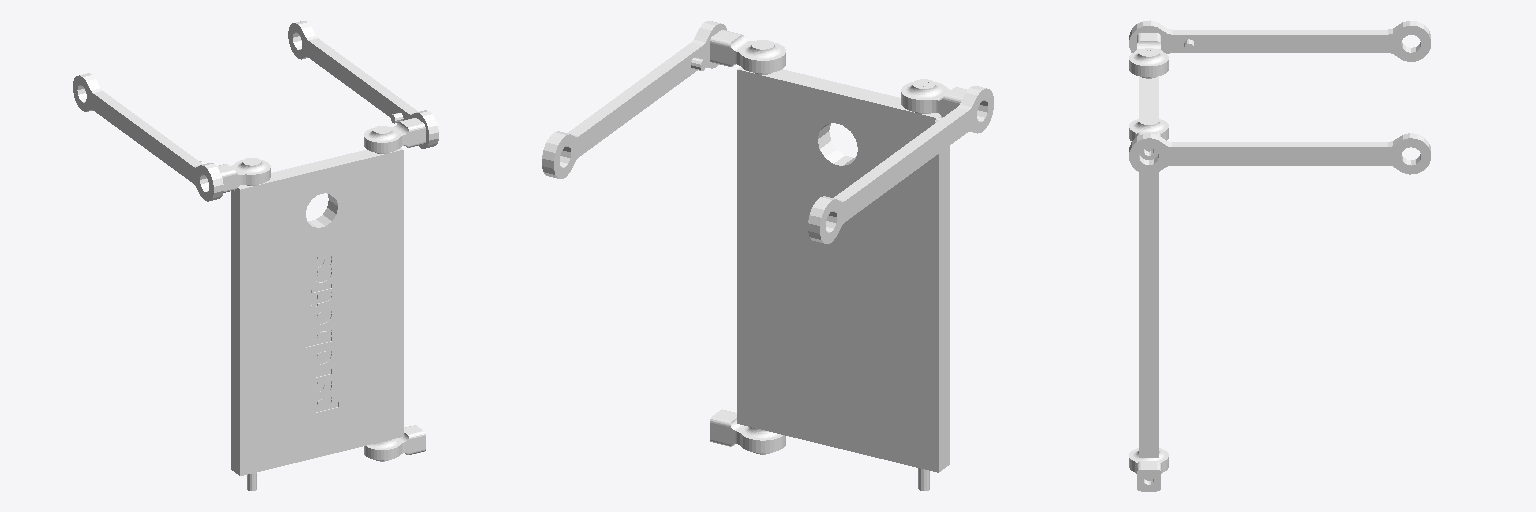
The robot description file, URDF, robot "dog_n3":
<?xml version="1.0" encoding="utf-8"?>
<!-- This URDF was automatically created by SolidWorks to URDF Exporter! Originally created by [author] ([email redacted]) 
     Commit Version: 1.5.1-0-g916b5db  Build Version: 1.5.7152.31018
     For more information, please see http://wiki.ros.org/sw_urdf_exporter -->
<robot
  name="dog_n3">
  <link
    name="base_link">
    <inertial>
      <origin
        xyz="0.0269612245896702 0.0654804967131808 0.169360689801144"
        rpy="0 0 0" />
      <mass
        value="0.165512786528228" />
      <inertia
        ixx="0.000392295659781242"
        ixy="-4.09650301571167E-09"
        ixz="4.6826411383129E-10"
        iyy="0.000142795553508747"
        iyz="-1.67266918288114E-08"
        izz="0.00053235366320355" />
    </inertial>
    <visual>
      <origin
        xyz="0 0 0"
        rpy="0 0 0" />
      <geometry>
        <mesh
          filename="package://dog_n3/meshes/base_link.STL" />
      </geometry>
      <material
        name="">
        <color
          rgba="1 1 1 1" />
      </material>
    </visual>
    <collision>
      <origin
        xyz="0 0 0"
        rpy="0 0 0" />
      <geometry>
        <mesh
          filename="package://dog_n3/meshes/base_link.STL" />
      </geometry>
    </collision>
  </link>
  <link
    name="lab_FL">
    <inertial>
      <origin
        xyz="-0.00691499568551896 2.77555756156289E-17 -0.00599999989355071"
        rpy="0 0 0" />
      <mass
        value="0.00388288484712263" />
      <inertia
        ixx="1.04650940823322E-07"
        ixy="1.00102804353274E-21"
        ixz="3.28972437896473E-15"
        iyy="3.64557783410698E-07"
        iyz="-2.60206831303284E-13"
        izz="4.05017083306772E-07" />
    </inertial>
    <visual>
      <origin
        xyz="0 0 0"
        rpy="0 0 0" />
      <geometry>
        <mesh
          filename="package://dog_n3/meshes/lab_FL.STL" />
      </geometry>
      <material
        name="">
        <color
          rgba="1 1 1 1" />
      </material>
    </visual>
    <collision>
      <origin
        xyz="0 0 0"
        rpy="0 0 0" />
      <geometry>
        <mesh
          filename="package://dog_n3/meshes/lab_FL.STL" />
      </geometry>
    </collision>
  </link>
  <joint
    name="jab_FL"
    type="continuous">
    <origin
      xyz="-0.013038 -0.16937 0.1506"
      rpy="3.1416 0 0" />
    <parent
      link="base_link" />
    <child
      link="lab_FL" />
    <axis
      xyz="0 0 1" />
    <limit
      lower="-1.57"
      upper="1.57"
      effort="3"
      velocity="3.14" />
  </joint>
  <link
    name="lhip_FL">
    <inertial>
      <origin
        xyz="0.0645400106619605 -0.00794377908090657 0"
        rpy="0 0 0" />
      <mass
        value="0.00960427623809624" />
      <inertia
        ixx="1.76741163234083E-07"
        ixy="2.40498792680467E-08"
        ixz="-2.58500173751528E-22"
        iyy="1.92743728772456E-05"
        iyz="-3.99563473650054E-23"
        izz="1.91609562437376E-05" />
    </inertial>
    <visual>
      <origin
        xyz="0 0 0"
        rpy="0 0 0" />
      <geometry>
        <mesh
          filename="package://dog_n3/meshes/lhip_FL.STL" />
      </geometry>
      <material
        name="">
        <color
          rgba="1 1 1 1" />
      </material>
    </visual>
    <collision>
      <origin
        xyz="0 0 0"
        rpy="0 0 0" />
      <geometry>
        <mesh
          filename="package://dog_n3/meshes/lhip_FL.STL" />
      </geometry>
    </collision>
  </link>
  <joint
    name="jhip_FL"
    type="continuous">
    <origin
      xyz="-0.018 0 -0.006"
      rpy="0 0 -1.5708" />
    <parent
      link="lab_FL" />
    <child
      link="lhip_FL" />
    <axis
      xyz="0 1 0" />
    <limit
      lower="-1.57"
      upper="1.57"
      effort="3"
      velocity="3.14" />
  </joint>
  <link
    name="lknee_FL">
    <inertial>
      <origin
        xyz="0.069957274950244 -0.00794846734311693 2.77555756156289E-17"
        rpy="0 0 0" />
      <mass
        value="0.0104780399457648" />
      <inertia
        ixx="1.84790039279272E-07"
        ixy="2.69749919961358E-08"
        ixz="-3.87057505120602E-21"
        iyy="2.25383840800217E-05"
        iyz="-5.00777743545265E-14"
        izz="2.24645808161435E-05" />
    </inertial>
    <visual>
      <origin
        xyz="0 0 0"
        rpy="0 0 0" />
      <geometry>
        <mesh
          filename="package://dog_n3/meshes/lknee_FL.STL" />
      </geometry>
      <material
        name="">
        <color
          rgba="1 1 1 1" />
      </material>
    </visual>
    <collision>
      <origin
        xyz="0 0 0"
        rpy="0 0 0" />
      <geometry>
        <mesh
          filename="package://dog_n3/meshes/lknee_FL.STL" />
      </geometry>
    </collision>
  </link>
  <joint
    name="jknee_FL"
    type="continuous">
    <origin
      xyz="0.13 -0.006 0"
      rpy="0 0 0" />
    <parent
      link="lhip_FL" />
    <child
      link="lknee_FL" />
    <axis
      xyz="0 1 0" />
    <limit
      lower="-1.57"
      upper="1.57"
      effort="3"
      velocity="3.14" />
  </joint>
  <link
    name="lab_BL">
    <inertial>
      <origin
        xyz="-0.00691499568551892 2.77555756156289E-17 0.00600000010644932"
        rpy="0 0 0" />
      <mass
        value="0.00388288484712262" />
      <inertia
        ixx="1.04650940823322E-07"
        ixy="9.50379180993565E-22"
        ixz="3.2897245461982E-15"
        iyy="3.64557783410697E-07"
        iyz="-2.60206831266088E-13"
        izz="4.05017083306771E-07" />
    </inertial>
    <visual>
      <origin
        xyz="0 0 0"
        rpy="0 0 0" />
      <geometry>
        <mesh
          filename="package://dog_n3/meshes/lab_BL.STL" />
      </geometry>
      <material
        name="">
        <color
          rgba="1 1 1 1" />
      </material>
    </visual>
    <collision>
      <origin
        xyz="0 0 0"
        rpy="0 0 0" />
      <geometry>
        <mesh
          filename="package://dog_n3/meshes/lab_BL.STL" />
      </geometry>
    </collision>
  </link>
  <joint
    name="jab_BL"
    type="continuous">
    <origin
      xyz="-0.013038 -0.16937 -0.017404"
      rpy="3.1416 0 0" />
    <parent
      link="base_link" />
    <child
      link="lab_BL" />
    <axis
      xyz="0 0 1" />
    <limit
      lower="-1.57"
      upper="1.57"
      effort="3"
      velocity="3.14" />
  </joint>
  <link
    name="lhip_BL">
    <inertial>
      <origin
        xyz="0.0645400106619605 -0.00794377908090659 -2.77555756156289E-17"
        rpy="0 0 0" />
      <mass
        value="0.00960427623809622" />
      <inertia
        ixx="1.76741163234083E-07"
        ixy="2.40498792680505E-08"
        ixz="8.34709910991394E-21"
        iyy="1.92743728772456E-05"
        iyz="-2.11159233739625E-23"
        izz="1.91609562437376E-05" />
    </inertial>
    <visual>
      <origin
        xyz="0 0 0"
        rpy="0 0 0" />
      <geometry>
        <mesh
          filename="package://dog_n3/meshes/lhip_BL.STL" />
      </geometry>
      <material
        name="">
        <color
          rgba="1 1 1 1" />
      </material>
    </visual>
    <collision>
      <origin
        xyz="0 0 0"
        rpy="0 0 0" />
      <geometry>
        <mesh
          filename="package://dog_n3/meshes/lhip_BL.STL" />
      </geometry>
    </collision>
  </link>
  <joint
    name="jhip_BL"
    type="continuous">
    <origin
      xyz="-0.018 0 0.006"
      rpy="0 0 -1.5708" />
    <parent
      link="lab_BL" />
    <child
      link="lhip_BL" />
    <axis
      xyz="0 1 0" />
    <limit
      lower="-1.57"
      upper="1.57"
      effort="3"
      velocity="3.14" />
  </joint>
  <link
    name="lknee_BL">
    <inertial>
      <origin
        xyz="0.0699572750687382 0.00794491809239425 -0.000237472168225623"
        rpy="0 0 0" />
      <mass
        value="0.0104780399457648" />
      <inertia
        ixx="1.84790038475002E-07"
        ixy="-2.69626172229234E-08"
        ixz="8.05907772502999E-10"
        iyy="2.25383182007561E-05"
        iyz="-2.20404719863234E-09"
        izz="2.24646466962135E-05" />
    </inertial>
    <visual>
      <origin
        xyz="0 0 0"
        rpy="0 0 0" />
      <geometry>
        <mesh
          filename="package://dog_n3/meshes/lknee_BL.STL" />
      </geometry>
      <material
        name="">
        <color
          rgba="1 1 1 1" />
      </material>
    </visual>
    <collision>
      <origin
        xyz="0 0 0"
        rpy="0 0 0" />
      <geometry>
        <mesh
          filename="package://dog_n3/meshes/lknee_BL.STL" />
      </geometry>
    </collision>
  </link>
  <joint
    name="jknee_BL"
    type="continuous">
    <origin
      xyz="0.13 -0.006 0"
      rpy="-3.1117 0 0" />
    <parent
      link="lhip_BL" />
    <child
      link="lknee_BL" />
    <axis
      xyz="0 0.99955 -0.029876" />
    <limit
      lower="-1.57"
      upper="1.57"
      effort="3"
      velocity="3.14" />
  </joint>
  <link
    name="lab_FR">
    <inertial>
      <origin
        xyz="-0.00691499568551894 2.77555756156289E-17 -0.00599999989355077"
        rpy="0 0 0" />
      <mass
        value="0.00388288484712262" />
      <inertia
        ixx="1.04650940823322E-07"
        ixy="8.87069227486519E-22"
        ixz="3.28972315231888E-15"
        iyy="3.64557783410697E-07"
        iyz="-2.60206831299011E-13"
        izz="4.05017083306771E-07" />
    </inertial>
    <visual>
      <origin
        xyz="0 0 0"
        rpy="0 0 0" />
      <geometry>
        <mesh
          filename="package://dog_n3/meshes/lab_FR.STL" />
      </geometry>
      <material
        name="">
        <color
          rgba="1 1 1 1" />
      </material>
    </visual>
    <collision>
      <origin
        xyz="0 0 0"
        rpy="0 0 0" />
      <geometry>
        <mesh
          filename="package://dog_n3/meshes/lab_FR.STL" />
      </geometry>
    </collision>
  </link>
  <joint
    name="jab_FR"
    type="continuous">
    <origin
      xyz="0.066962 -0.16937 0.1506"
      rpy="-3.1416 0 -3.1416" />
    <parent
      link="base_link" />
    <child
      link="lab_FR" />
    <axis
      xyz="0 0 1" />
    <limit
      lower="-1.57"
      upper="1.57"
      effort="3"
      velocity="3.14" />
  </joint>
  <link
    name="lhip_FR">
    <inertial>
      <origin
        xyz="0.06454 0.0079438 -5.5511E-17"
        rpy="0 0 0" />
      <mass
        value="0.0096043" />
      <inertia
        ixx="1.7674E-07"
        ixy="-2.405E-08"
        ixz="3.7619E-21"
        iyy="1.9274E-05"
        iyz="-6.7053E-22"
        izz="1.9161E-05" />
    </inertial>
    <visual>
      <origin
        xyz="0 0 0"
        rpy="0 0 0" />
      <geometry>
        <mesh
          filename="package://dog_n3/meshes/lhip_FR.STL" />
      </geometry>
      <material
        name="">
        <color
          rgba="1 1 1 1" />
      </material>
    </visual>
    <collision>
      <origin
        xyz="0 0 0"
        rpy="0 0 0" />
      <geometry>
        <mesh
          filename="package://dog_n3/meshes/lhip_FR.STL" />
      </geometry>
    </collision>
  </link>
  <joint
    name="jhip_FR"
    type="continuous">
    <origin
      xyz="-0.018 0 -0.006"
      rpy="0 0 1.5708" />
    <parent
      link="lab_FR" />
    <child
      link="lhip_FR" />
    <axis
      xyz="0 1 0" />
    <limit
      lower="-1.57"
      upper="1.57"
      effort="3"
      velocity="3.14" />
  </joint>
  <link
    name="lknee_FR">
    <inertial>
      <origin
        xyz="0.0699572749502441 0.00794846734311642 -2.77555756156289E-17"
        rpy="0 0 0" />
      <mass
        value="0.0104780399457648" />
      <inertia
        ixx="1.84790039279272E-07"
        ixy="-2.69749919959799E-08"
        ixz="3.14260248069787E-21"
        iyy="2.25383840800217E-05"
        iyz="-5.00777738781173E-14"
        izz="2.24645808161436E-05" />
    </inertial>
    <visual>
      <origin
        xyz="0 0 0"
        rpy="0 0 0" />
      <geometry>
        <mesh
          filename="package://dog_n3/meshes/lknee_FR.STL" />
      </geometry>
      <material
        name="">
        <color
          rgba="1 1 1 1" />
      </material>
    </visual>
    <collision>
      <origin
        xyz="0 0 0"
        rpy="0 0 0" />
      <geometry>
        <mesh
          filename="package://dog_n3/meshes/lknee_FR.STL" />
      </geometry>
    </collision>
  </link>
  <joint
    name="jknee_FR"
    type="continuous">
    <origin
      xyz="0.13 0.006 0"
      rpy="0 0 0" />
    <parent
      link="lhip_FR" />
    <child
      link="lknee_FR" />
    <axis
      xyz="0 1 0" />
    <limit
      lower="-1.57"
      upper="1.57"
      effort="3"
      velocity="3.14" />
  </joint>
  <link
    name="lab_BR">
    <inertial>
      <origin
        xyz="-0.00691499568551895 -2.77555756156289E-17 -0.00599999989355071"
        rpy="0 0 0" />
      <mass
        value="0.00388288484712262" />
      <inertia
        ixx="1.04650940823322E-07"
        ixy="-1.03129074590143E-21"
        ixz="3.28972366589283E-15"
        iyy="3.64557783410697E-07"
        iyz="-2.60206831254321E-13"
        izz="4.05017083306771E-07" />
    </inertial>
    <visual>
      <origin
        xyz="0 0 0"
        rpy="0 0 0" />
      <geometry>
        <mesh
          filename="package://dog_n3/meshes/lab_BR.STL" />
      </geometry>
      <material
        name="">
        <color
          rgba="1 1 1 1" />
      </material>
    </visual>
    <collision>
      <origin
        xyz="0 0 0"
        rpy="0 0 0" />
      <geometry>
        <mesh
          filename="package://dog_n3/meshes/lab_BR.STL" />
      </geometry>
    </collision>
  </link>
  <joint
    name="jab_BR"
    type="continuous">
    <origin
      xyz="0.066962 -0.16937 -0.017404"
      rpy="0 0 -3.1416" />
    <parent
      link="base_link" />
    <child
      link="lab_BR" />
    <axis
      xyz="0 0 1" />
    <limit
      lower="-1.57"
      upper="1.57"
      effort="3"
      velocity="3.14" />
  </joint>
  <link
    name="lhip_BR">
    <inertial>
      <origin
        xyz="0.0645400104928747 -0.00785192241670328 0.00120455895410896"
        rpy="0 0 0" />
      <mass
        value="0.00960427623809623" />
      <inertia
        ixx="1.7674116425791E-07"
        ixy="2.37721800262687E-08"
        ixz="-3.64687568716903E-09"
        iyy="1.92717650514557E-05"
        iyz="-1.69991162435206E-08"
        izz="1.91635640685036E-05" />
    </inertial>
    <visual>
      <origin
        xyz="0 0 0"
        rpy="0 0 0" />
      <geometry>
        <mesh
          filename="package://dog_n3/meshes/lhip_BR.STL" />
      </geometry>
      <material
        name="">
        <color
          rgba="1 1 1 1" />
      </material>
    </visual>
    <collision>
      <origin
        xyz="0 0 0"
        rpy="0 0 0" />
      <geometry>
        <mesh
          filename="package://dog_n3/meshes/lhip_BR.STL" />
      </geometry>
    </collision>
  </link>
  <joint
    name="jhip_BR"
    type="continuous">
    <origin
      xyz="-0.018 0 -0.006"
      rpy="0.15222 0 -1.5708" />
    <parent
      link="lab_BR" />
    <child
      link="lhip_BR" />
    <axis
      xyz="0 0.98844 -0.15164" />
    <limit
      lower="-1.57"
      upper="1.57"
      effort="3"
      velocity="3.14" />
  </joint>
  <link
    name="lknee_BR">
    <inertial>
      <origin
        xyz="0.0699572749502441 0.00794846734311642 -1.73472347597681E-17"
        rpy="0 0 0" />
      <mass
        value="0.0104780399457648" />
      <inertia
        ixx="1.84790039279272E-07"
        ixy="-2.69749919959823E-08"
        ixz="-7.26129805593474E-22"
        iyy="2.25383840800217E-05"
        iyz="-5.00777738996765E-14"
        izz="2.24645808161436E-05" />
    </inertial>
    <visual>
      <origin
        xyz="0 0 0"
        rpy="0 0 0" />
      <geometry>
        <mesh
          filename="package://dog_n3/meshes/lknee_BR.STL" />
      </geometry>
      <material
        name="">
        <color
          rgba="1 1 1 1" />
      </material>
    </visual>
    <collision>
      <origin
        xyz="0 0 0"
        rpy="0 0 0" />
      <geometry>
        <mesh
          filename="package://dog_n3/meshes/lknee_BR.STL" />
      </geometry>
    </collision>
  </link>
  <joint
    name="jknee_BR"
    type="continuous">
    <origin
      xyz="0.13 -0.0059306 0.00090981"
      rpy="2.9894 0 0" />
    <parent
      link="lhip_BR" />
    <child
      link="lknee_BR" />
    <axis
      xyz="0 1 0" />
    <limit
      lower="-1.57"
      upper="1.57"
      effort="3"
      velocity="3.14" />
  </joint>
</robot>

--- What the picture shows (computed from the rendered views, not written in the file) ---
The picture shows the robot from 3 angles, left to right: view 1: azimuth 30°, elevation 25°; view 2: azimuth 150°, elevation 25°; view 3: azimuth 270°, elevation 25°; orthographic projection.
Robot: dog_n3 — 13 links, 12 joints (12 continuous); root link base_link; default pose: all joints at 0.
Links seen in each view (by area): view 1: base_link, lhip_FL, lhip_FR, lab_FR, lab_BR, lab_FL; view 2: base_link, lhip_FL, lhip_FR, lab_FR, lab_BR, lab_FL; view 3: lhip_FR, lhip_FL, base_link, lab_FL, lab_BR, lab_FR.
Boxes of the visible links, x1=… form: base_link: x1=231, y1=128, x2=403, y2=490; lhip_FL: x1=73, y1=73, x2=223, y2=201; lhip_FR: x1=288, y1=21, x2=438, y2=148; lab_FR: x1=364, y1=118, x2=425, y2=153; lab_BR: x1=364, y1=425, x2=425, y2=461; lab_FL: x1=217, y1=158, x2=270, y2=192; base_link: x1=737, y1=42, x2=949, y2=490; lhip_FL: x1=808, y1=86, x2=993, y2=243; lhip_FR: x1=542, y1=21, x2=726, y2=178; lab_FR: x1=710, y1=30, x2=785, y2=74; lab_BR: x1=710, y1=409, x2=785, y2=454; lab_FL: x1=901, y1=79, x2=966, y2=116; lhip_FR: x1=1129, y1=133, x2=1430, y2=174; lhip_FL: x1=1129, y1=20, x2=1430, y2=61; base_link: x1=1139, y1=50, x2=1158, y2=457; lab_FL: x1=1129, y1=33, x2=1168, y2=78; lab_BR: x1=1129, y1=448, x2=1168, y2=491; lab_FR: x1=1129, y1=116, x2=1168, y2=159.
Size in the robot's own frame: 0.138 by 0.1498 by 0.196 metres.
Meshes: 13 distinct files referenced, 6 mesh visuals loaded (6 binary STL); not drawn: 7 (reference not matched to a file when rendering).